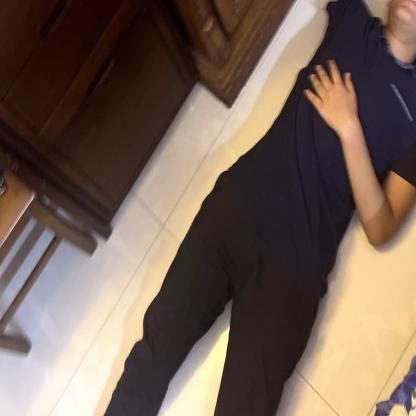hand: (293, 56, 405, 256)
